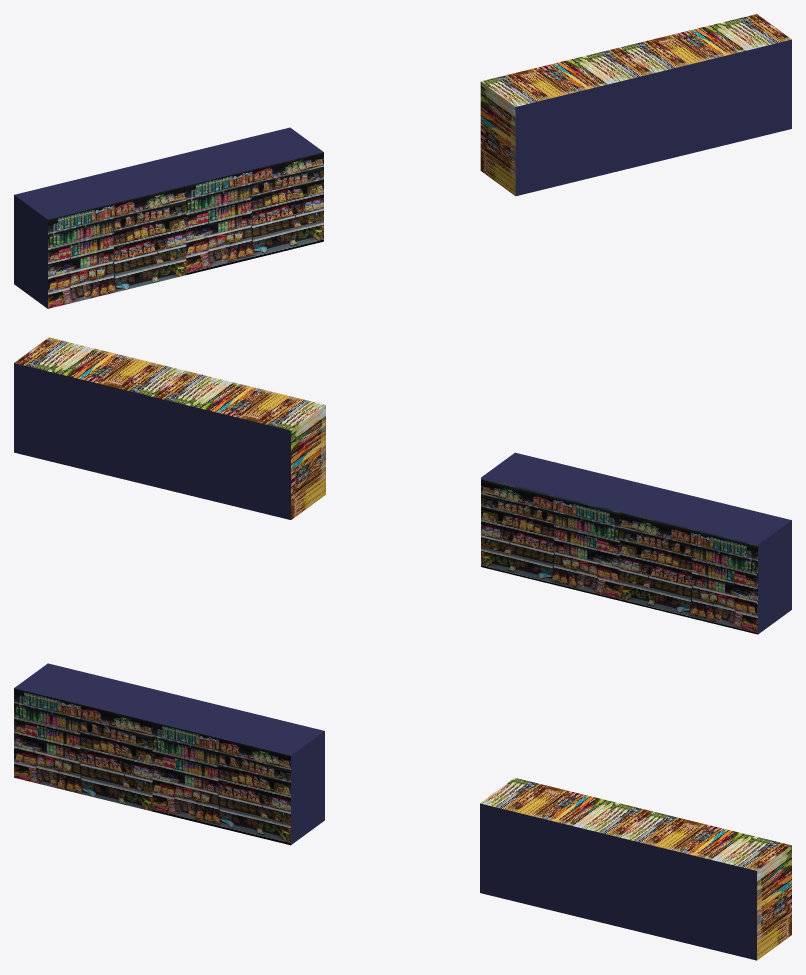
File: shelf row 3.fbx
3 renders of one model, top to bottom at view 1: azimuth 30°, elevation 25°; view 2: azimuth 150°, elevation 25°; view 3: azimuth 330°, elevation 25°, orthographic.
Visible parts, largest first — view 1: Librero.081, Librero.064; view 2: Librero.081, Librero.064; view 3: Librero.081, Librero.064.
Part boxes in pixels (x1,y1,x2,y2): Librero.081: [480, 14, 791, 196]; Librero.064: [14, 127, 323, 308]; Librero.081: [14, 337, 325, 519]; Librero.064: [481, 452, 791, 634]; Librero.081: [480, 778, 791, 960]; Librero.064: [14, 663, 324, 845].
Bounding box in the file's own units: 2480 × 285 × 205.
